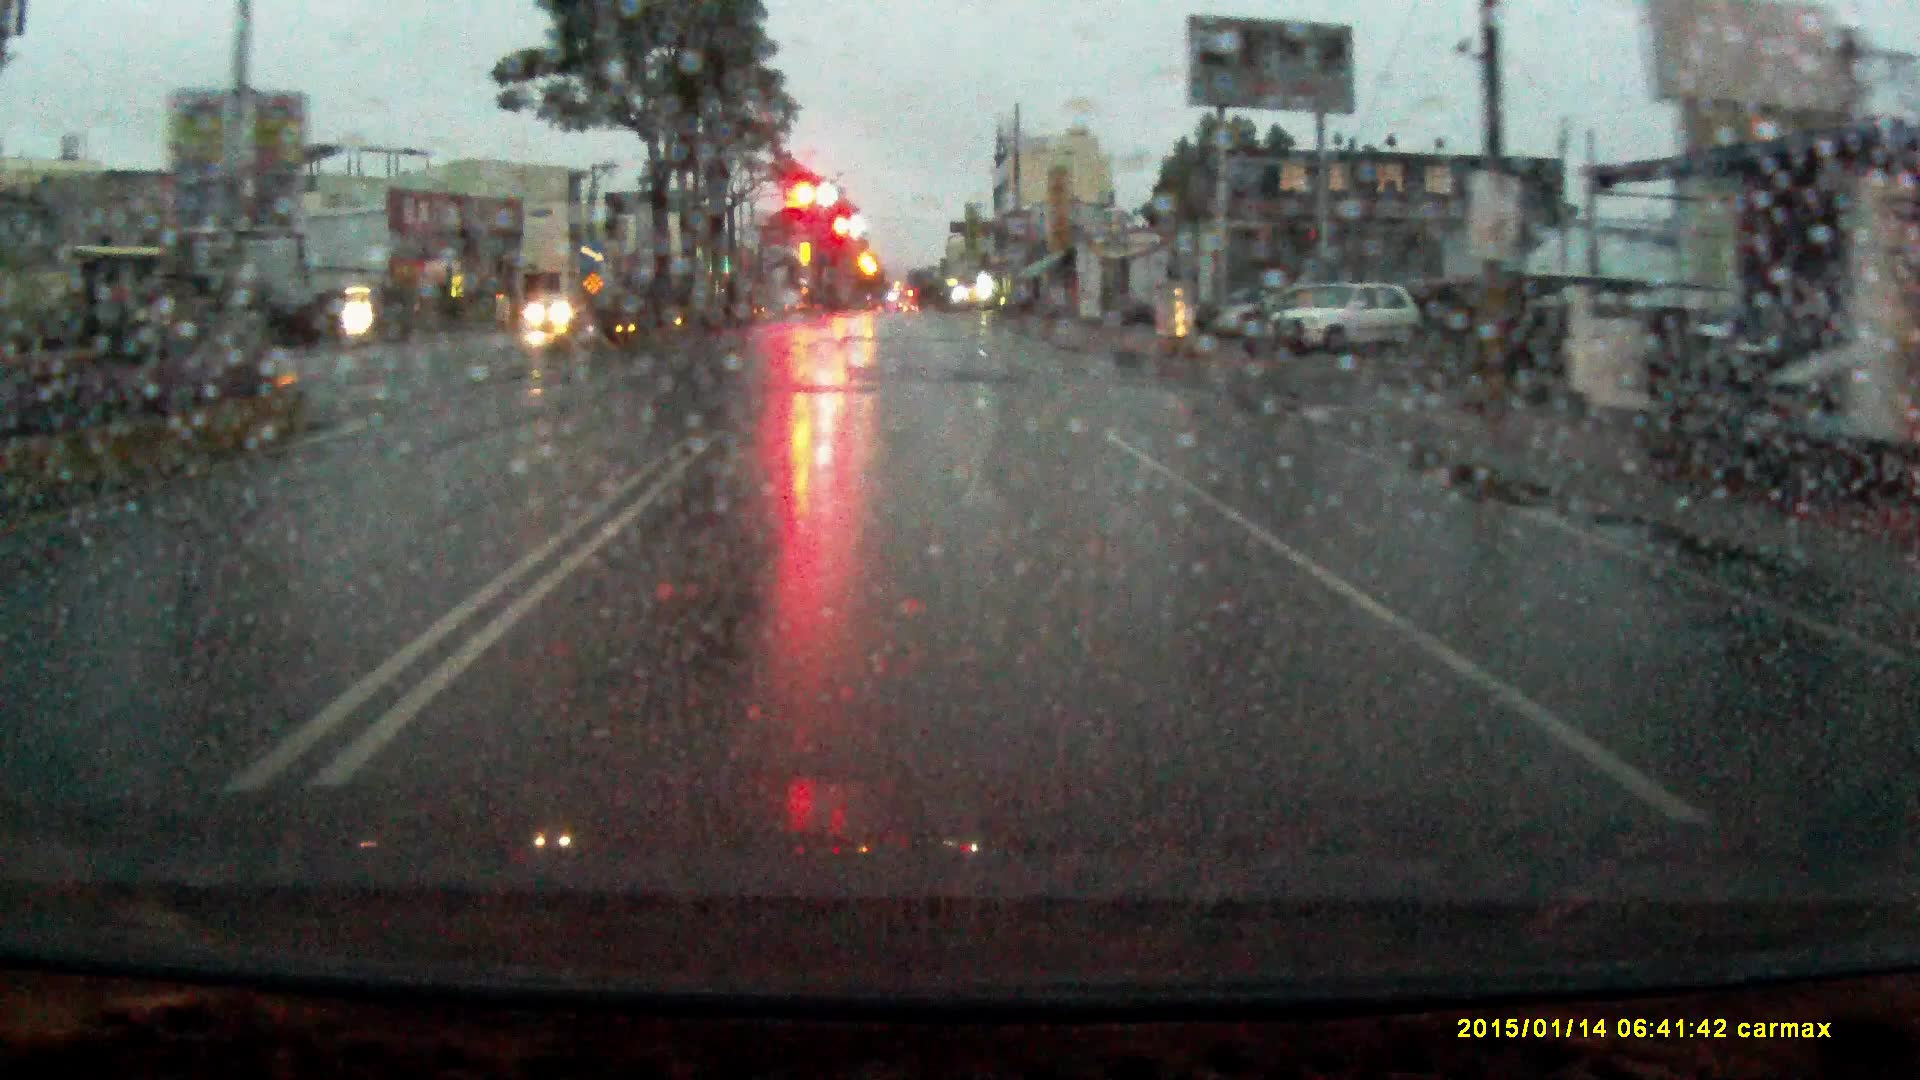vehicle: (1262, 280, 1428, 355), (1236, 281, 1366, 349), (529, 293, 593, 334), (1000, 284, 1047, 318)
